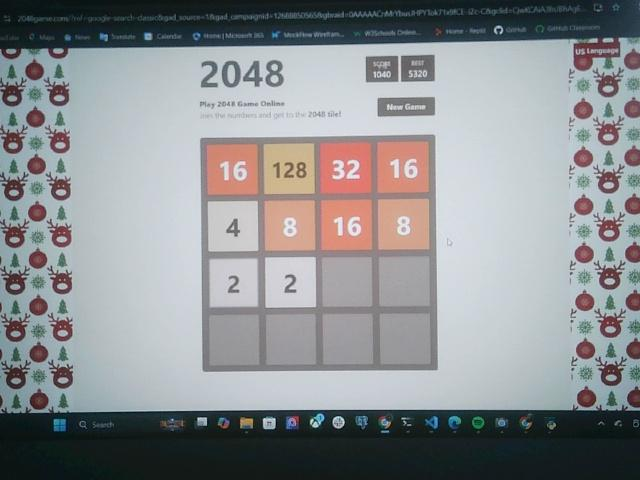board: (201, 137, 437, 370)
tile: (265, 199, 316, 253), (265, 257, 317, 309), (320, 143, 372, 194), (209, 257, 259, 310), (379, 142, 429, 194), (265, 144, 316, 194), (322, 200, 372, 251), (378, 199, 429, 249), (209, 201, 259, 251), (208, 145, 258, 194)
